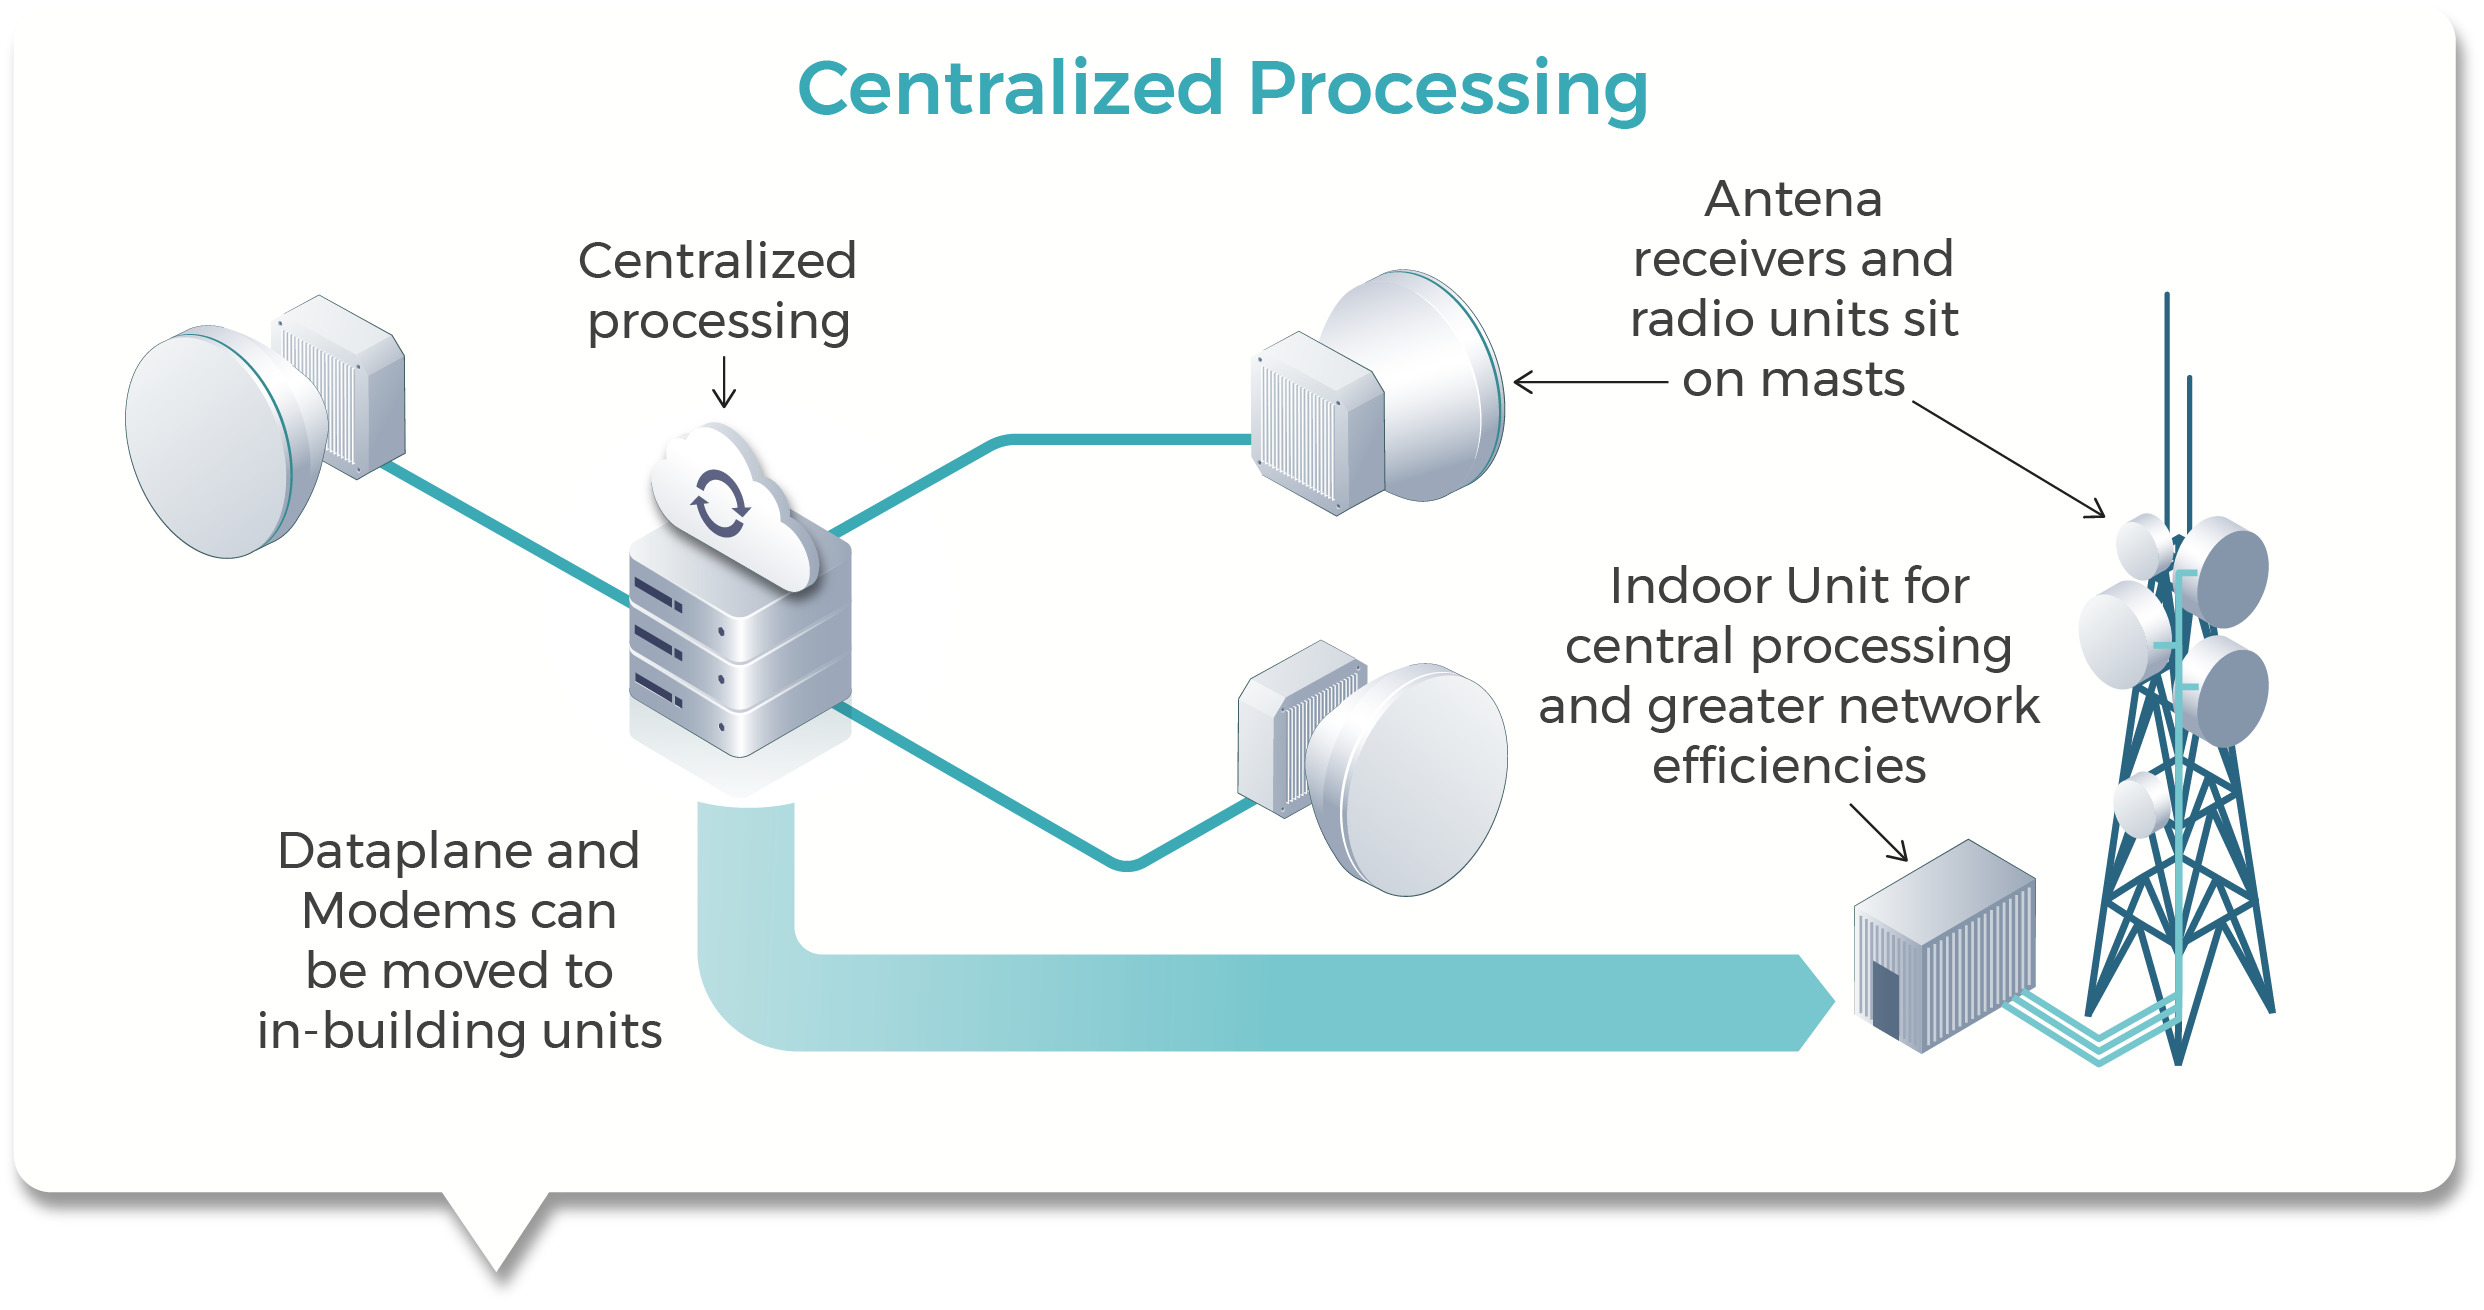ba: (1214, 626, 1518, 907), (1245, 238, 1500, 570), (130, 301, 402, 554)
